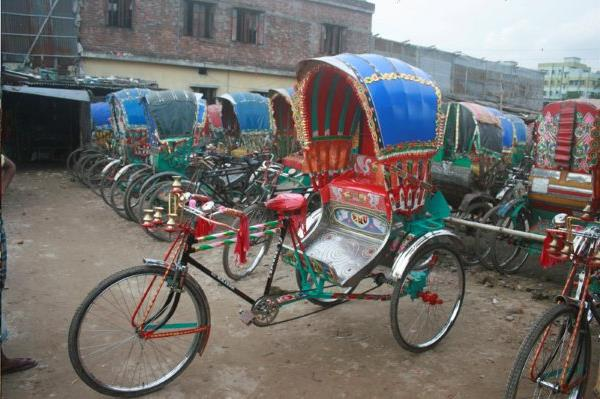Rickshaw: (96, 45, 456, 371), (540, 75, 594, 369), (434, 82, 500, 282), (529, 95, 591, 272), (255, 76, 325, 224), (141, 71, 205, 230), (211, 76, 280, 213), (97, 66, 159, 214), (496, 98, 516, 249)
